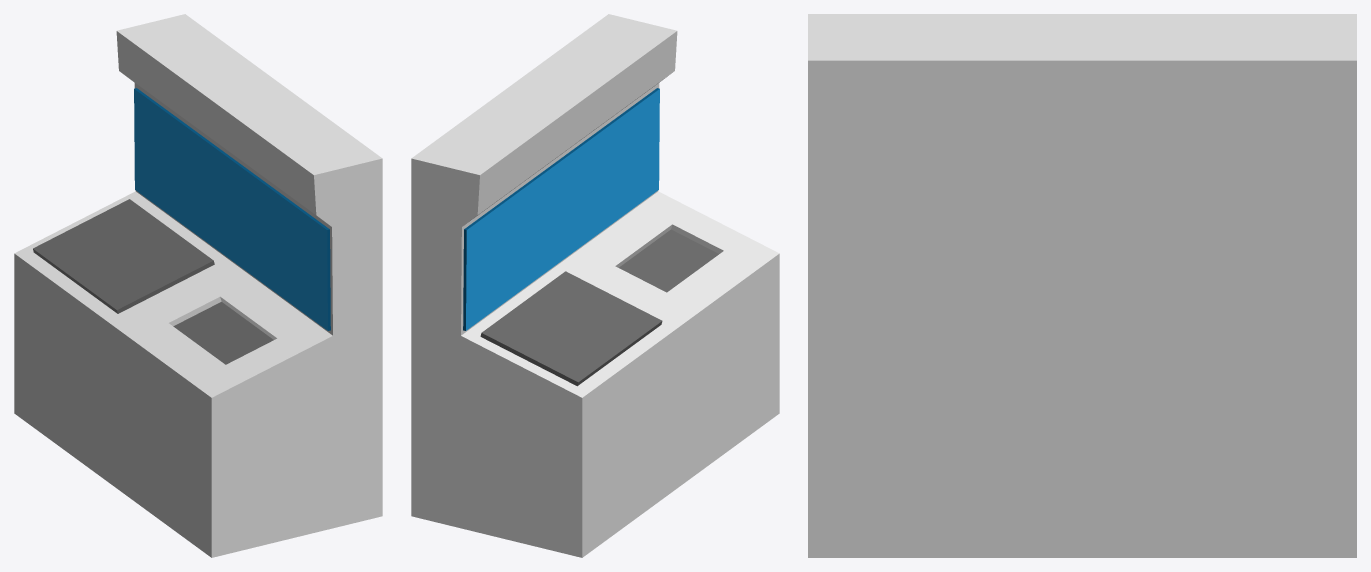
File: Console.fbx
The picture shows the model from 3 angles, left to right: view 1: azimuth 30°, elevation 25°; view 2: azimuth 150°, elevation 25°; view 3: azimuth 270°, elevation 25°; orthographic projection. The views are drawn at different scales.
Visible parts, largest first — view 1: Cube.001; view 2: Cube.001; view 3: Cube.001.
Part boxes in pixels (x1=…): Cube.001: x1=14, y1=14, x2=382, y2=557; Cube.001: x1=411, y1=14, x2=779, y2=557; Cube.001: x1=808, y1=14, x2=1356, y2=557.
Bounding box in the file's own units: 50 × 100 × 100.
